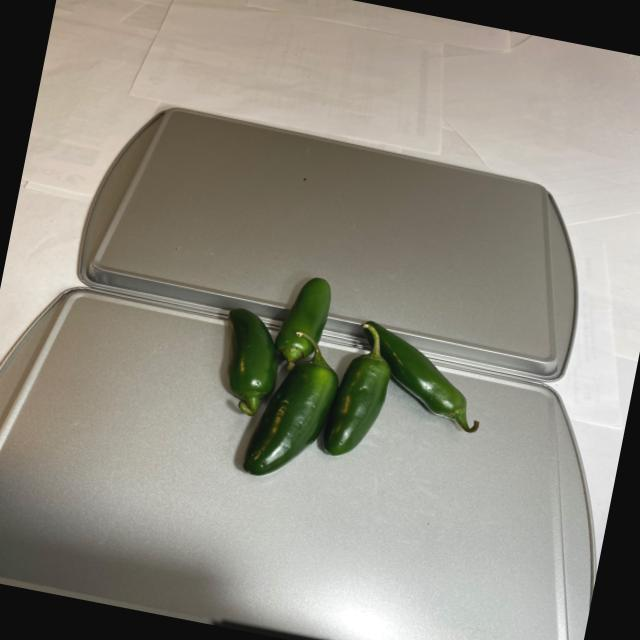chilli: (188, 256, 500, 514)
